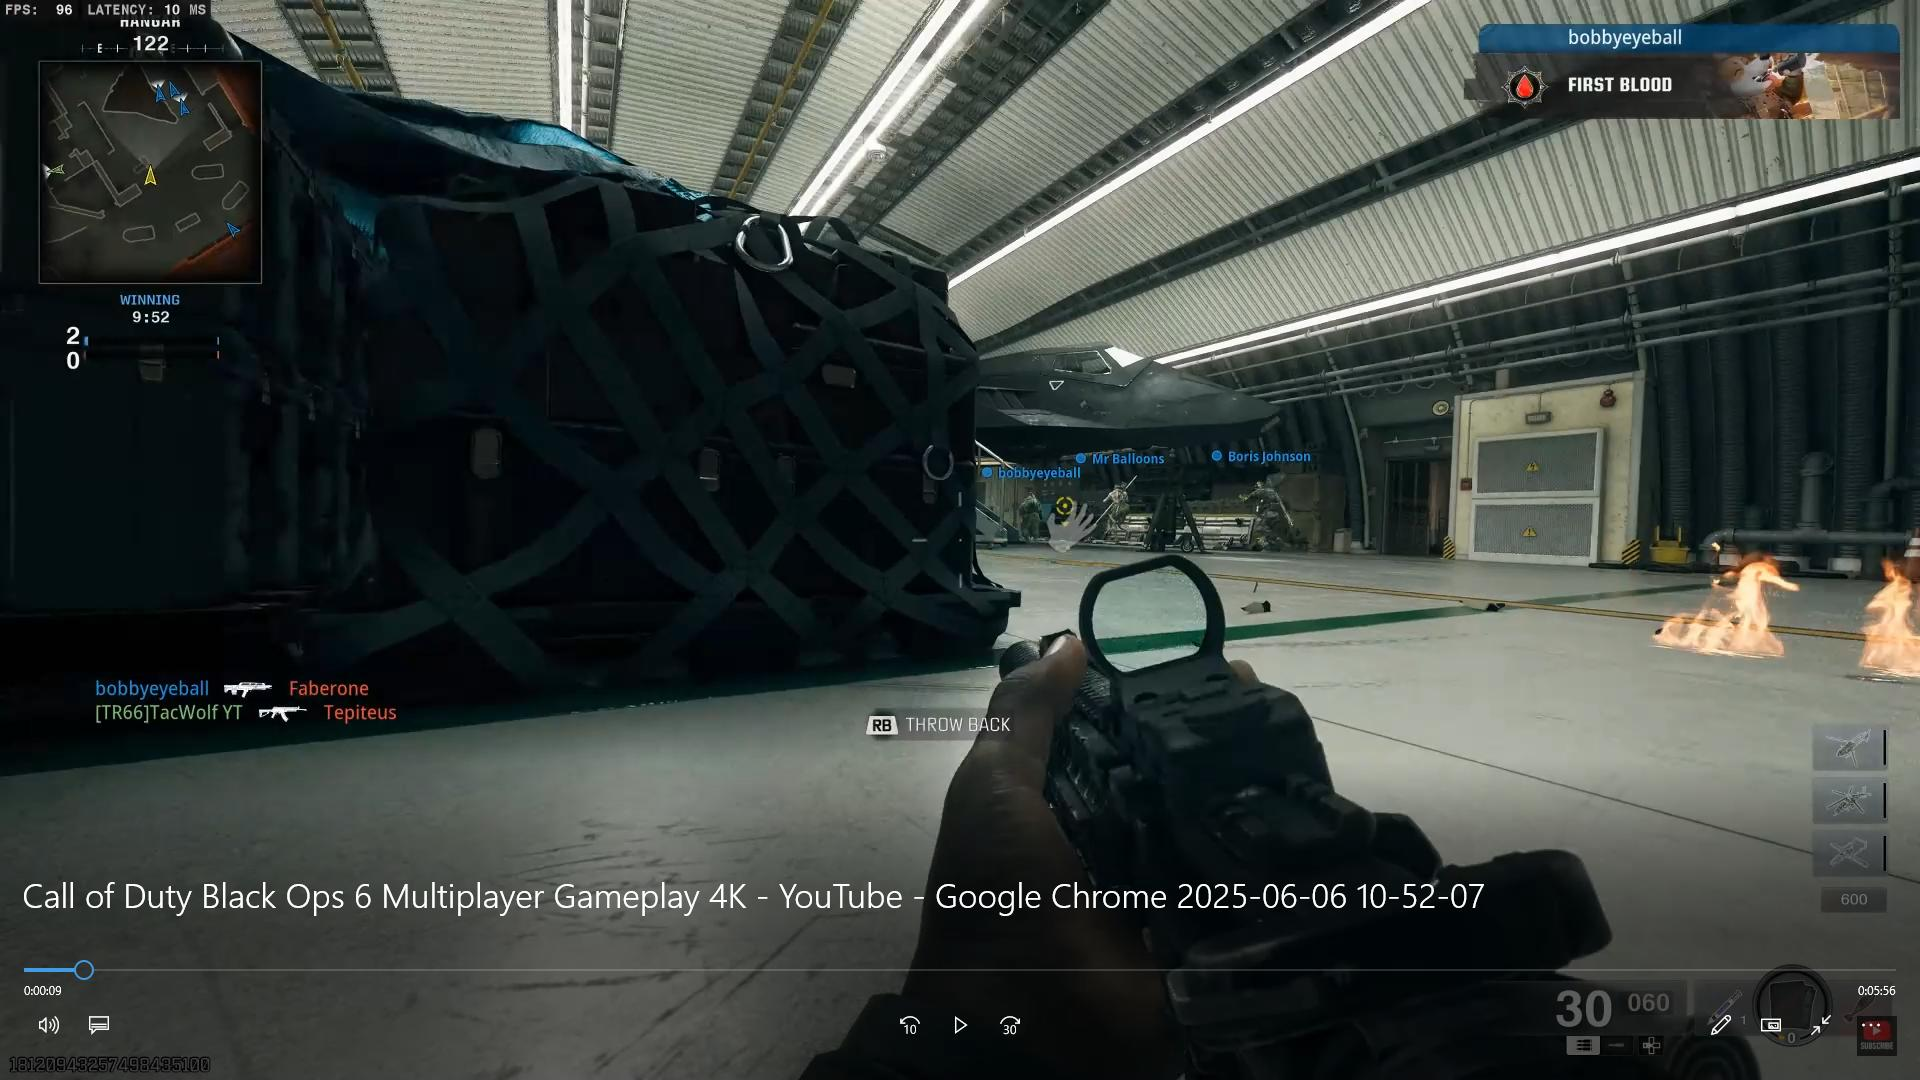Enemy: (1230, 475, 1302, 553), (1097, 480, 1134, 546), (1014, 485, 1046, 542)
